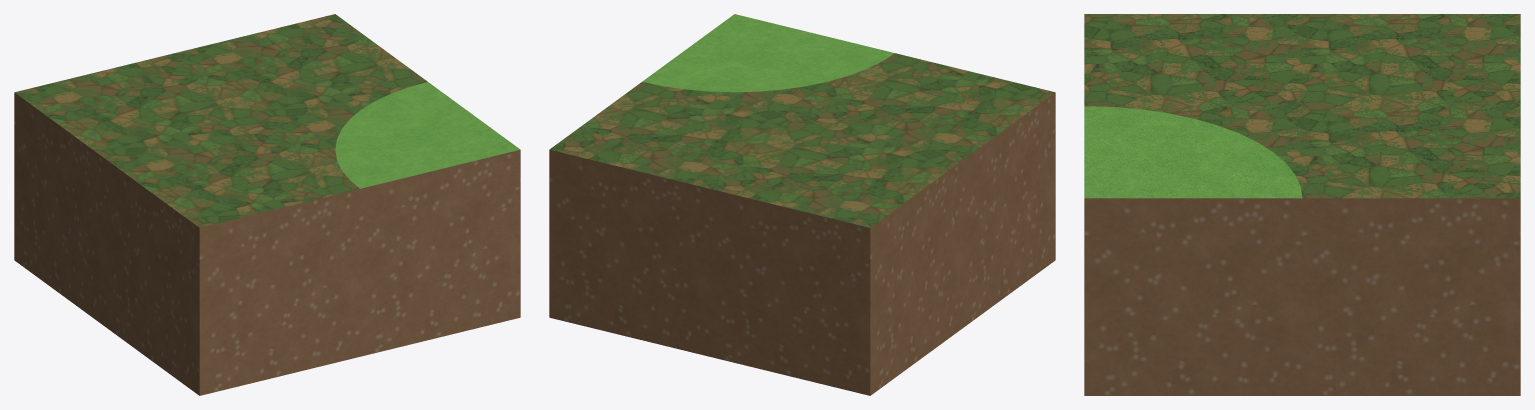
Rendered from Forest_InnerCorner_H.fbx.
The picture shows the model from 3 angles, left to right: view 1: azimuth 30°, elevation 25°; view 2: azimuth 150°, elevation 25°; view 3: azimuth 270°, elevation 25°; orthographic projection. The views are drawn at different scales.
Parts seen in each view (by area): view 1: Forest_InnerCorner_H; view 2: Forest_InnerCorner_H; view 3: Forest_InnerCorner_H.
Boxes of the visible parts, <box> form: Forest_InnerCorner_H: <box>14,14,520,395</box>; Forest_InnerCorner_H: <box>549,14,1055,395</box>; Forest_InnerCorner_H: <box>1084,14,1520,395</box>.
Bounding box in the file's own units: 3 × 1.5 × 3.
3 materials, 3 textured.
